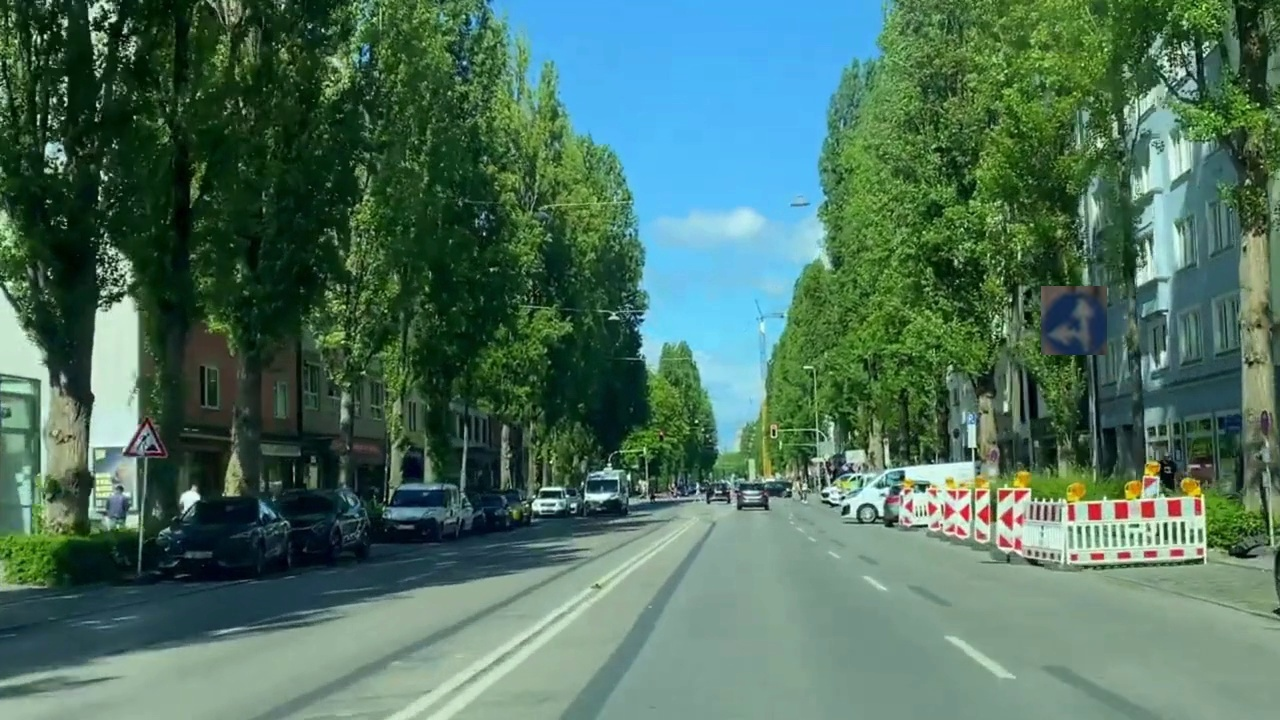Straight/left: (1041, 286, 1107, 355)
